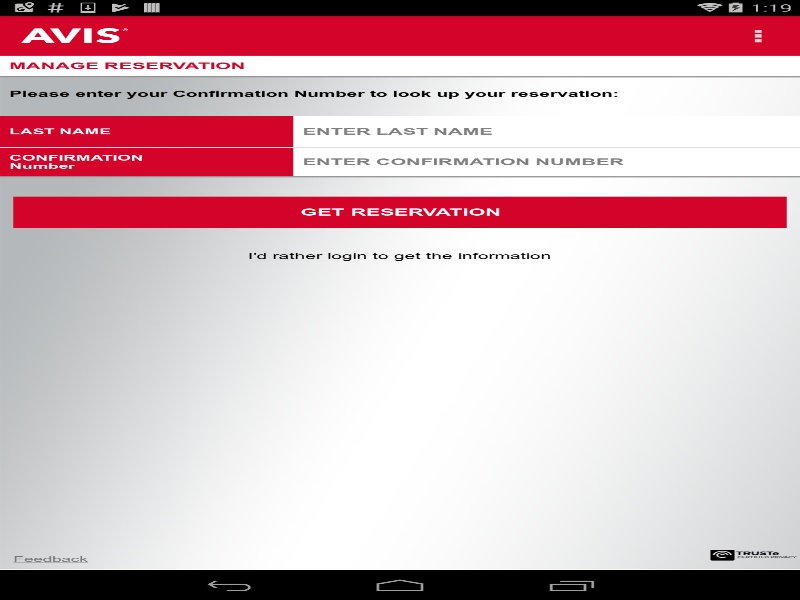Button: (13, 196, 786, 227)
Input: (293, 115, 800, 147), (293, 147, 800, 175)
